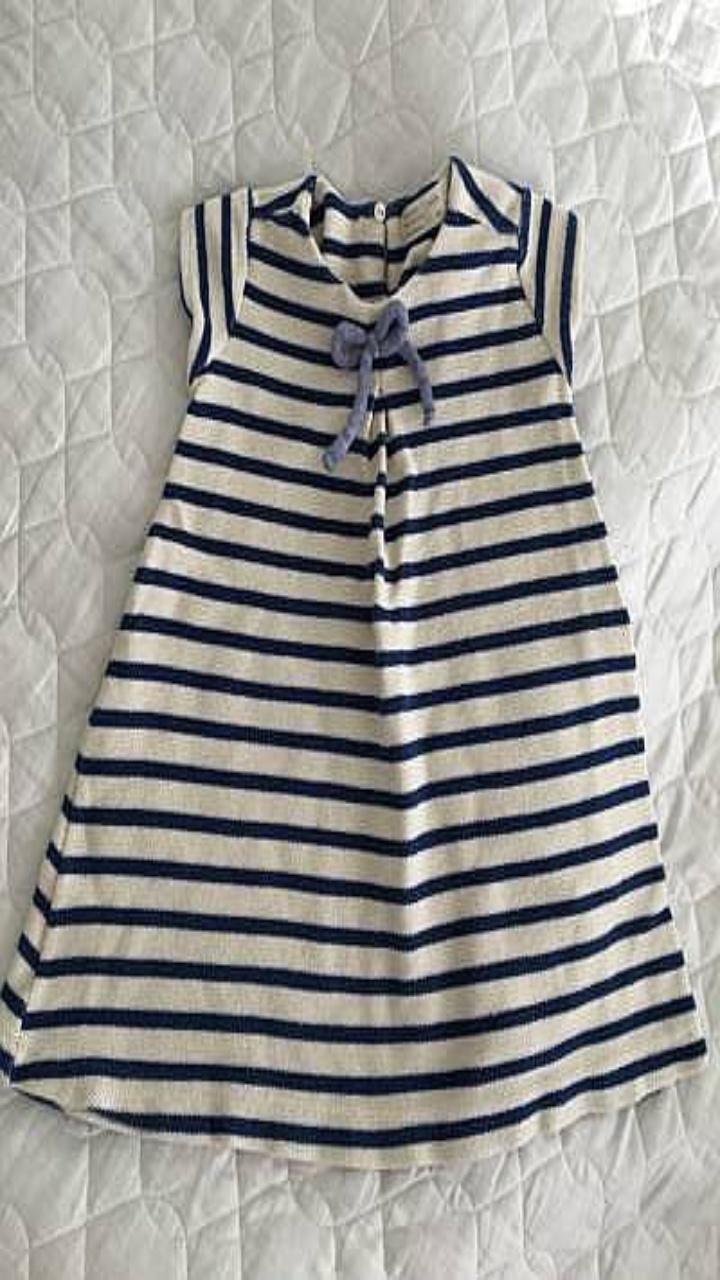Dresses: (0, 155, 706, 1167)
